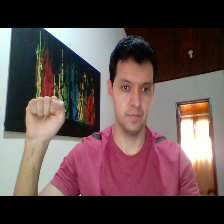9D: (19, 92, 74, 146)
